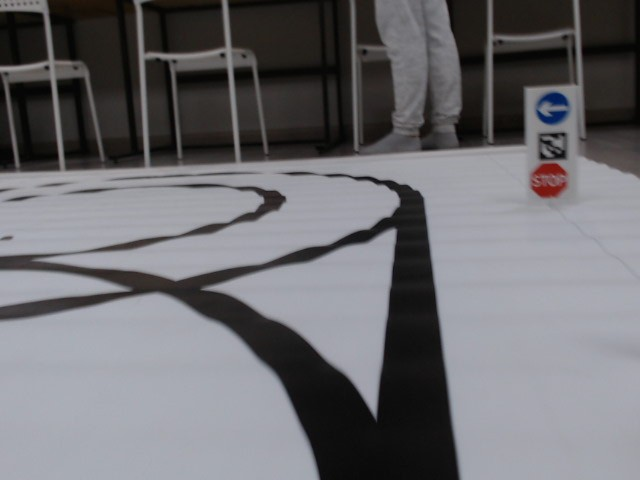Stop: (529, 161, 570, 201)
